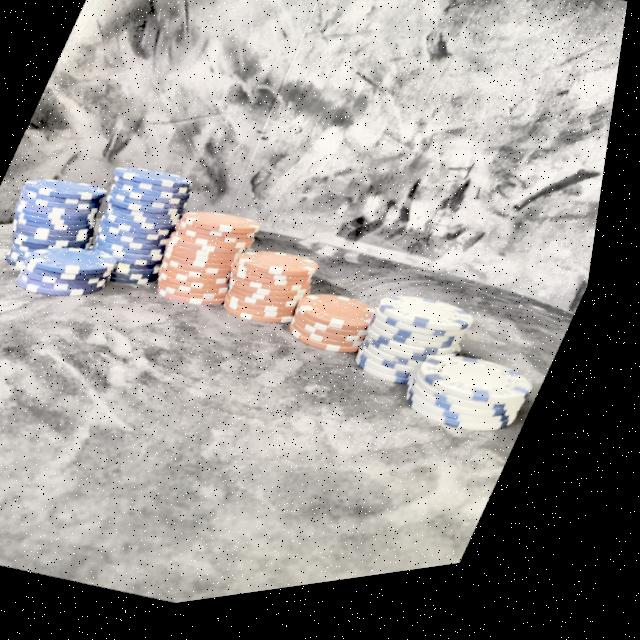Chip: (66, 146, 215, 312), (0, 152, 140, 315), (399, 346, 565, 476), (351, 285, 496, 424), (146, 196, 275, 334), (213, 234, 335, 352), (17, 227, 133, 319), (287, 286, 396, 380)
